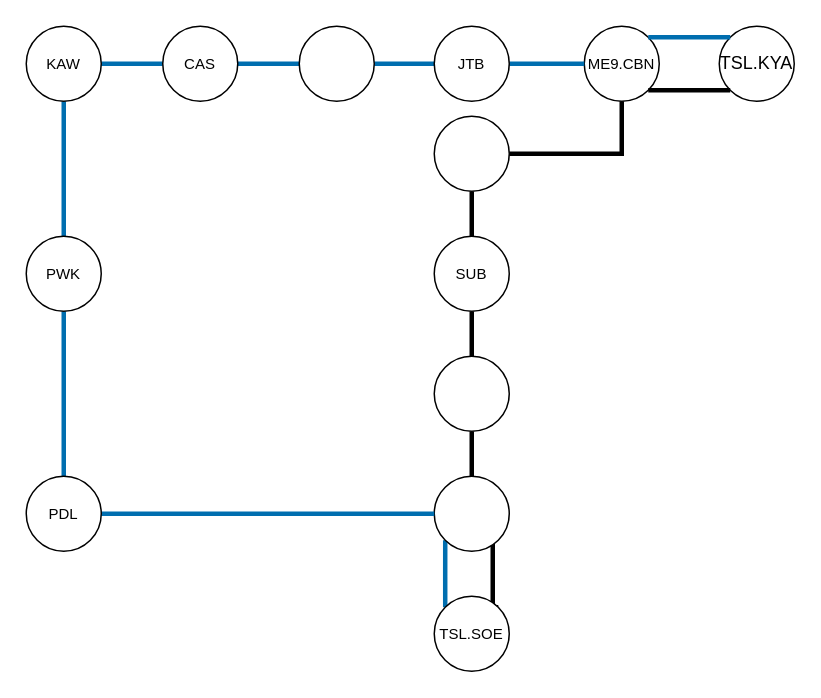
The diagram is 821 pixels wide and 698 high, and some of its shapes have lost their labels. The shapes that lost their labels are listed below. From the top down, each one's box as (x1, y1, x2, y2) in pixels, then its label:
(298, 25, 374, 101): PAT
(433, 115, 509, 191): KAD
(433, 355, 509, 431): LEM
(433, 475, 509, 551): CCD
